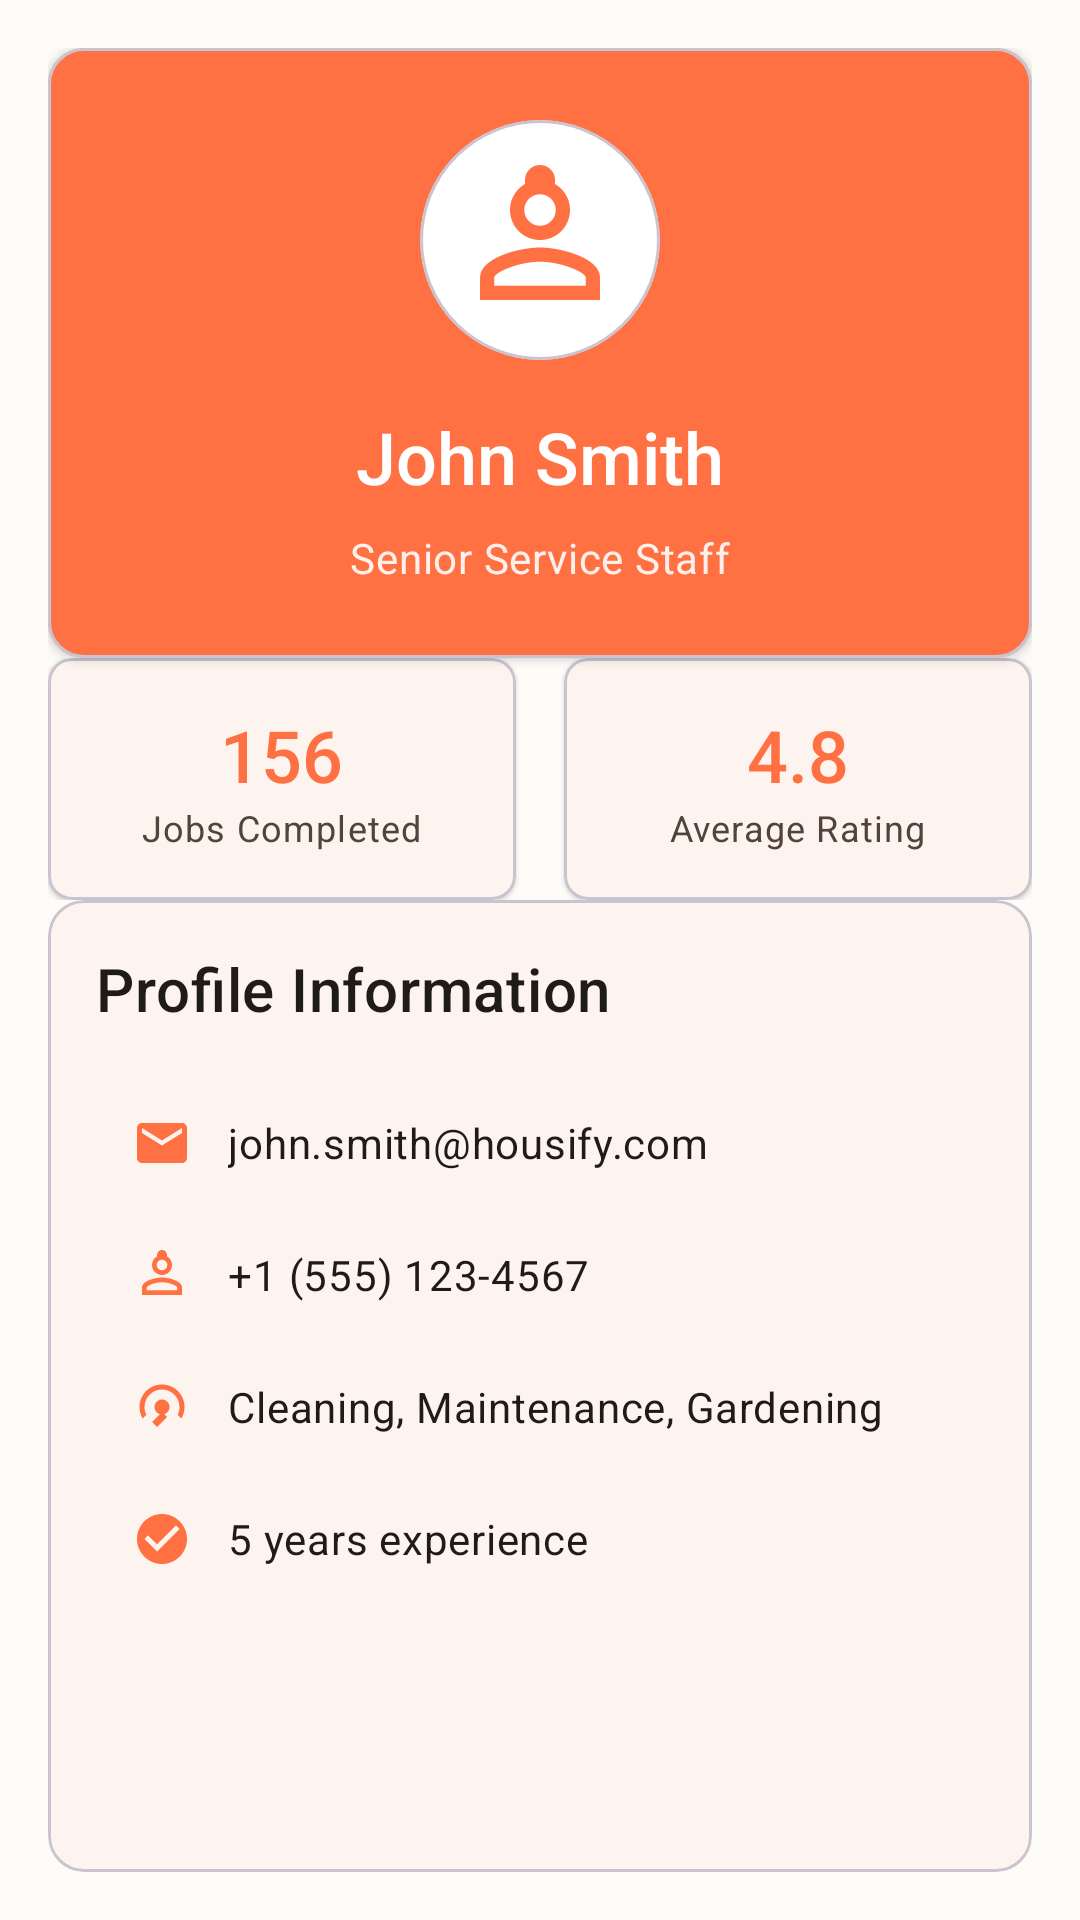

Icons on this 1080w x 1920h Android screen, each with the point to tap as point (x, y):
check circle: point (162, 1539)
email: point (162, 1143)
worker: point (540, 232), point (162, 1272)
